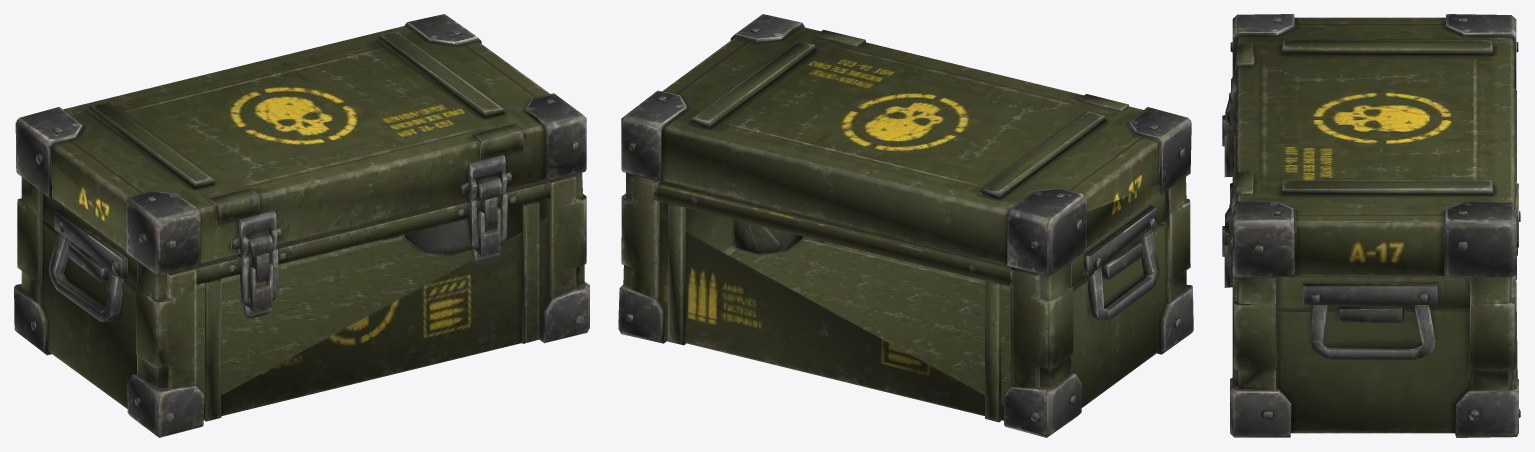
The model's file is salvage-crate_military.glb.
3 renders of one model, left to right at view 1: azimuth 30°, elevation 25°; view 2: azimuth 150°, elevation 25°; view 3: azimuth 270°, elevation 25°, orthographic.
Visible parts, largest first — view 1: Meshy_AI_crate_military_3d_20261028_texture; view 2: Meshy_AI_crate_military_3d_20261028_texture; view 3: Meshy_AI_crate_military_3d_20261028_texture.
Boxes of the visible parts, <box> form: Meshy_AI_crate_military_3d_20261028_texture: <box>14,14,589,437</box>; Meshy_AI_crate_military_3d_20261028_texture: <box>618,14,1193,437</box>; Meshy_AI_crate_military_3d_20261028_texture: <box>1222,14,1520,437</box>.
Bounding box in the file's own units: 1.1 × 0.5192 × 0.636.
1 material, 1 textured.
